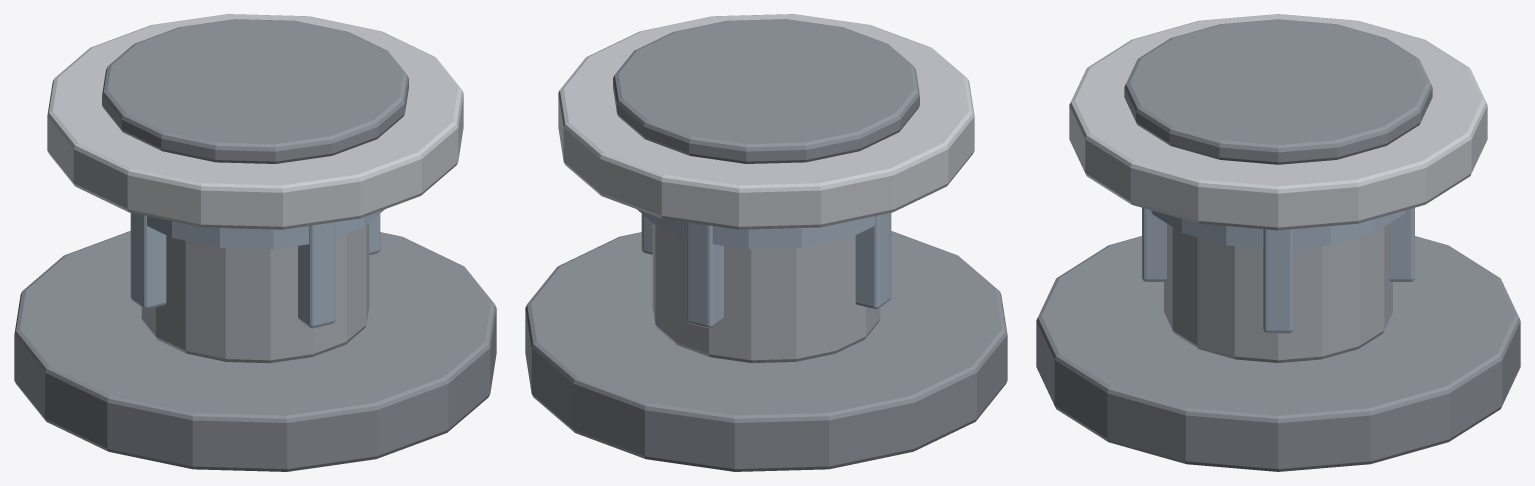
Rendered from PickaxePedestal.fbx.
The picture shows the model from 3 angles, left to right: view 1: azimuth 30°, elevation 25°; view 2: azimuth 150°, elevation 25°; view 3: azimuth 270°, elevation 25°; orthographic projection.
Visible parts, largest first — view 1: Base, Top, Ring, Column, Accent3, MidRing, Accent1; view 2: Base, Top, Ring, Column, Accent2, MidRing, Accent1; view 3: Base, Top, Ring, Column, MidRing, Accent0, Accent2, Accent3.
Boxes of the visible parts, x1,y1,x2,y2 form: Base: [14, 231, 496, 471]; Top: [47, 14, 463, 229]; Ring: [102, 19, 408, 163]; Column: [141, 223, 369, 363]; Accent3: [298, 222, 335, 328]; MidRing: [147, 209, 384, 249]; Accent1: [130, 213, 166, 309]; Base: [525, 231, 1007, 471]; Top: [558, 14, 974, 229]; Ring: [613, 19, 919, 163]; Column: [652, 223, 880, 363]; Accent2: [686, 222, 723, 328]; MidRing: [637, 209, 874, 249]; Accent1: [855, 213, 891, 309]; Base: [1036, 236, 1520, 471]; Top: [1069, 14, 1487, 230]; Ring: [1124, 19, 1432, 164]; Column: [1164, 223, 1392, 362]; MidRing: [1150, 210, 1406, 248]; Accent0: [1263, 229, 1293, 333]; Accent2: [1390, 207, 1414, 281]; Accent3: [1142, 207, 1166, 281].
Size of the model in its own units: 2.2 by 1.45 by 2.2.
